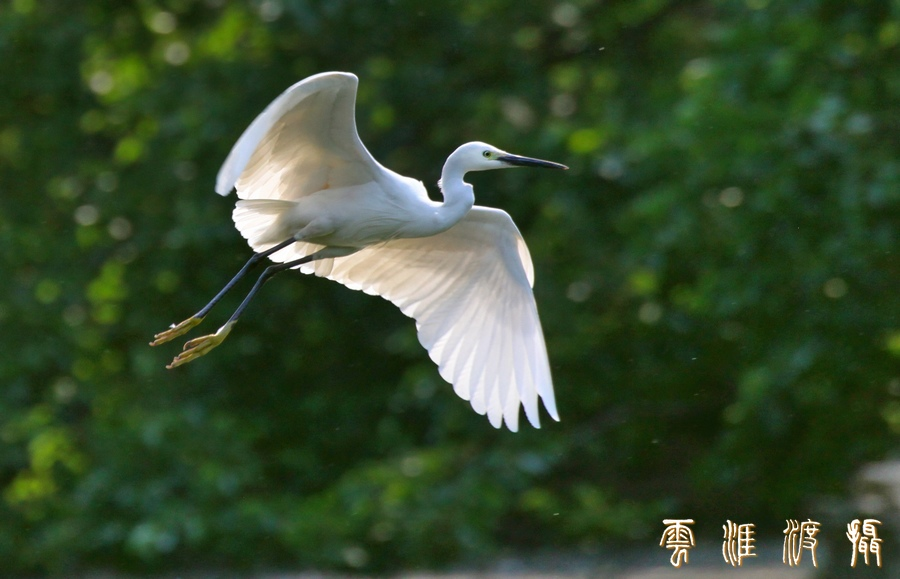bird: (142, 72, 569, 431)
